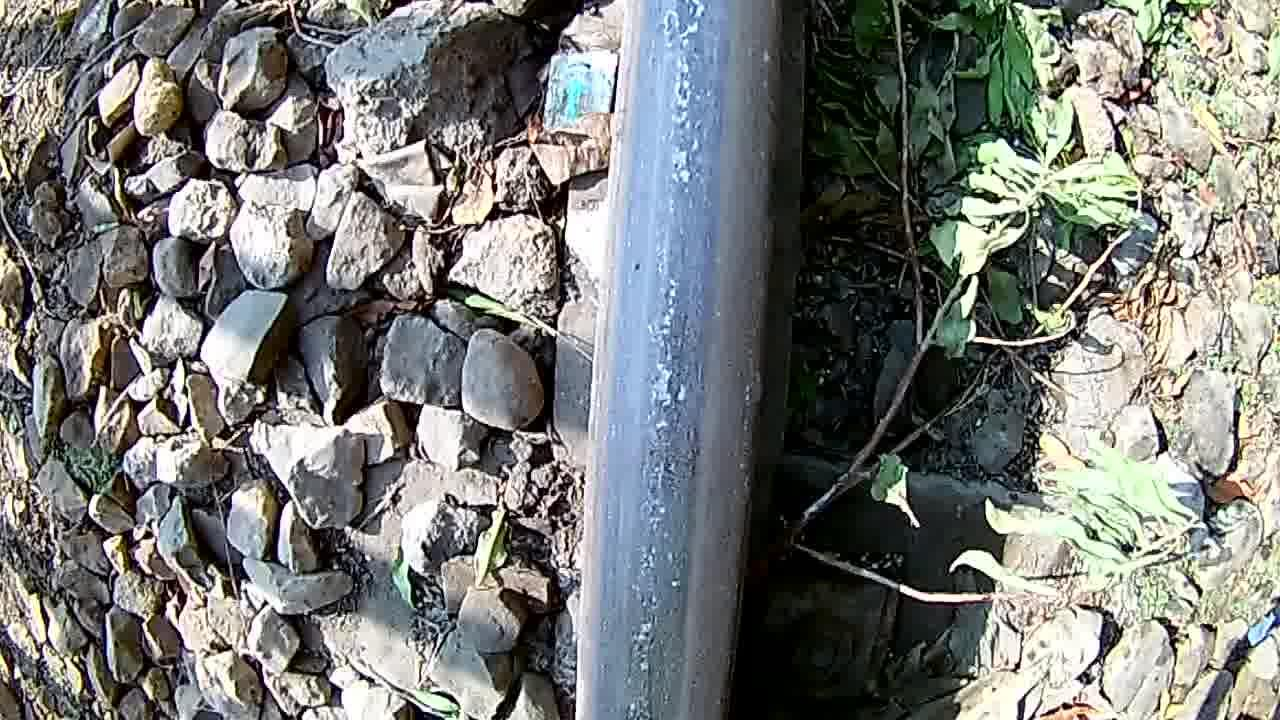crack: (596, 3, 774, 720)
